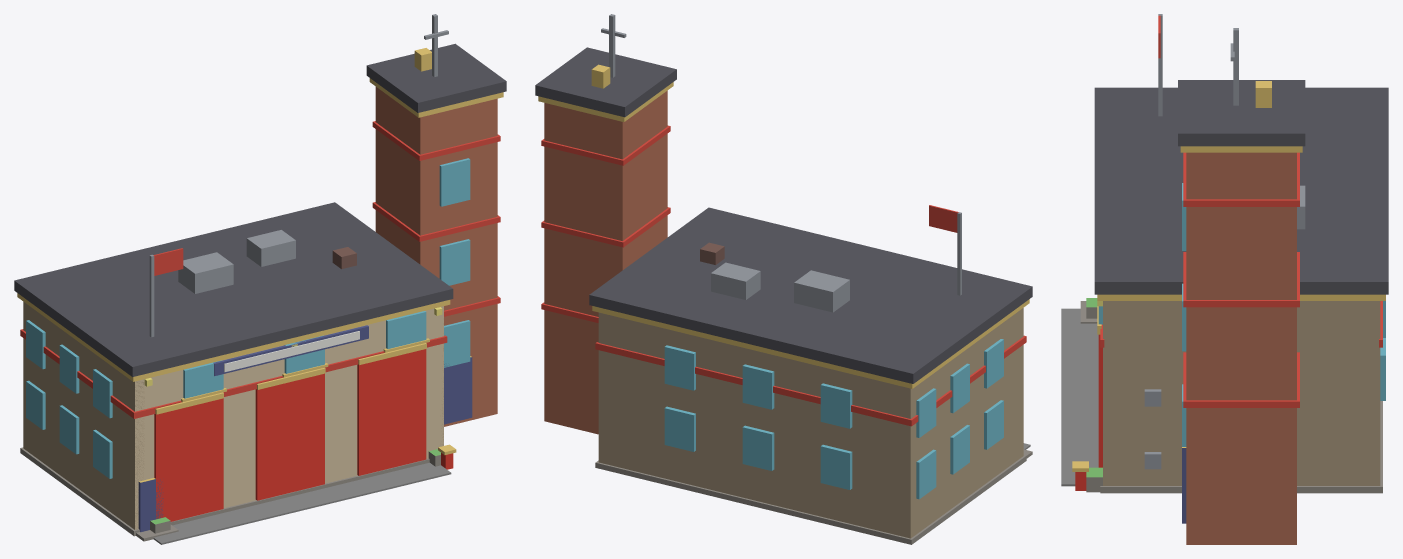
The model's file is FireStation.fbx.
3 renders of one model, left to right at view 1: azimuth 30°, elevation 25°; view 2: azimuth 150°, elevation 25°; view 3: azimuth 270°, elevation 25°, orthographic. The views are drawn at different scales.
Visible parts, largest first — view 1: FireStation; view 2: FireStation; view 3: FireStation.
Boxes of the visible parts, left/top/right/bottom form: FireStation: left=14, top=14, right=506, bottom=544; FireStation: left=535, top=14, right=1032, bottom=544; FireStation: left=1061, top=14, right=1388, bottom=544.
Bounding box in the file's own units: 2110 × 1950 × 1180.
